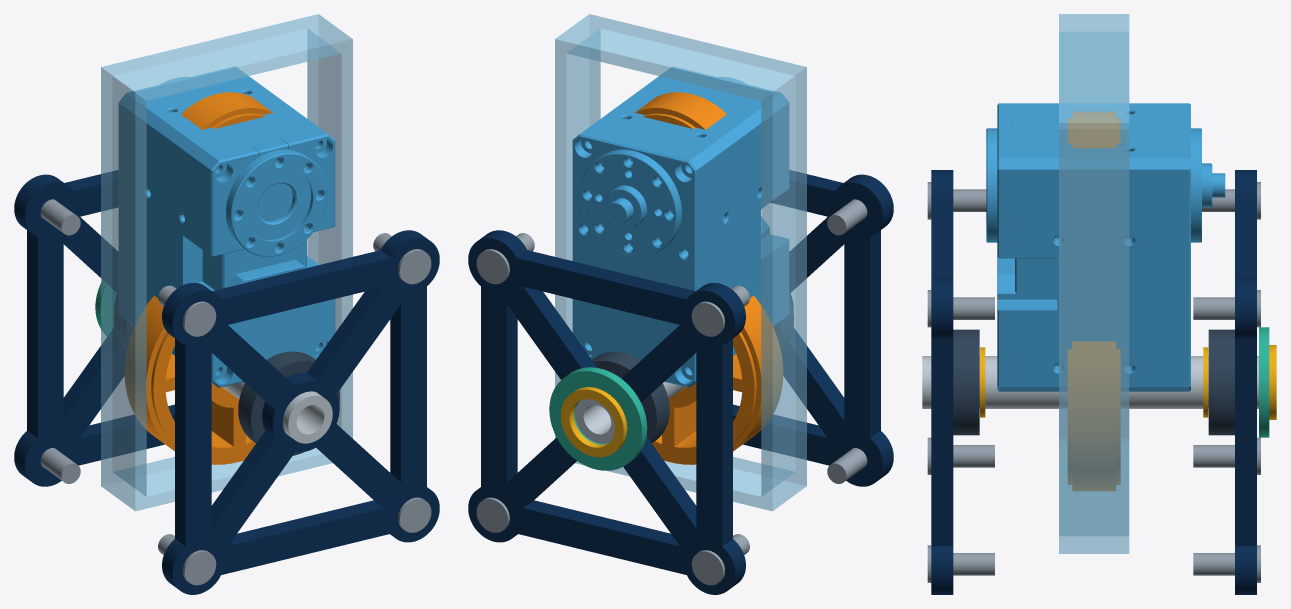
File: JMF-07-LEG-REDUCED-15_assembly.glb
3 views of the same model, side by side, from view 1: azimuth 30°, elevation 25°; view 2: azimuth 150°, elevation 25°; view 3: azimuth 270°, elevation 25° (orthographic). The views are drawn at different scales.
Visible parts, largest first — view 1: CARRIER_A, ACTUATOR, TRANSMISSION_GUARD, CARRIER_B, TIMING_BELT, OUTPUT_PULLEY, OUTPUT_SHAFT, BEARING_A, CARRIER_A_SCREW_22, CARRIER_A_SCREW_21, CARRIER_A_SCREW_12, CARRIER_A_SCREW_11 (+3 smaller); view 2: CARRIER_B, ACTUATOR, TRANSMISSION_GUARD, CARRIER_A, TIMING_BELT, OUTPUT_ENCODER_CARRIER, OUTPUT_PULLEY, OUTPUT_MAGNET_HUB, BEARING_B, OUTPUT_SHAFT, CARRIER_B_SCREW_22, CARRIER_B_SCREW_21 (+4 smaller); view 3: ACTUATOR, TRANSMISSION_GUARD, CARRIER_A, CARRIER_B, TIMING_BELT, OUTPUT_SHAFT, BEARING_A, BEARING_B, OUTPUT_PULLEY, OUTPUT_ENCODER_CARRIER, CARRIER_A_SCREW_11, CARRIER_A_SCREW_12 (+7 smaller).
Boxes of the visible parts, box(x1,y1,x2,y2) form: CARRIER_A: box(162, 230, 439, 594); ACTUATOR: box(119, 66, 335, 387); TRANSMISSION_GUARD: box(101, 14, 352, 511); CARRIER_B: box(14, 170, 174, 486); TIMING_BELT: box(125, 92, 272, 464); OUTPUT_PULLEY: box(151, 332, 255, 460); OUTPUT_SHAFT: box(223, 382, 332, 443); BEARING_A: box(238, 351, 339, 455); CARRIER_A_SCREW_22: box(158, 285, 216, 336); CARRIER_A_SCREW_21: box(158, 534, 216, 585); CARRIER_A_SCREW_12: box(373, 233, 431, 284); CARRIER_A_SCREW_11: box(398, 497, 431, 532); CARRIER_B: box(468, 230, 745, 594); ACTUATOR: box(572, 66, 788, 387); TRANSMISSION_GUARD: box(555, 14, 806, 511); CARRIER_A: box(733, 170, 893, 486); TIMING_BELT: box(635, 92, 782, 464); OUTPUT_ENCODER_CARRIER: box(549, 367, 647, 470); OUTPUT_PULLEY: box(652, 332, 756, 460); OUTPUT_MAGNET_HUB: box(560, 387, 627, 457); BEARING_B: box(592, 351, 669, 443); OUTPUT_SHAFT: box(575, 382, 684, 443); CARRIER_B_SCREW_22: box(691, 285, 749, 336); CARRIER_B_SCREW_21: box(691, 534, 749, 585); ACTUATOR: box(986, 103, 1225, 391); TRANSMISSION_GUARD: box(1059, 14, 1129, 553); CARRIER_A: box(931, 170, 953, 594); CARRIER_B: box(1235, 170, 1256, 594); TIMING_BELT: box(1072, 112, 1115, 490); OUTPUT_SHAFT: box(922, 356, 1258, 408); BEARING_A: box(953, 329, 979, 435); BEARING_B: box(1208, 329, 1234, 435); OUTPUT_PULLEY: box(1068, 349, 1120, 484); OUTPUT_ENCODER_CARRIER: box(1259, 327, 1269, 437); CARRIER_A_SCREW_11: box(927, 545, 994, 582); CARRIER_A_SCREW_12: box(927, 290, 994, 327).
Size of the model in its own units: 71.99 by 118 by 80.4.
